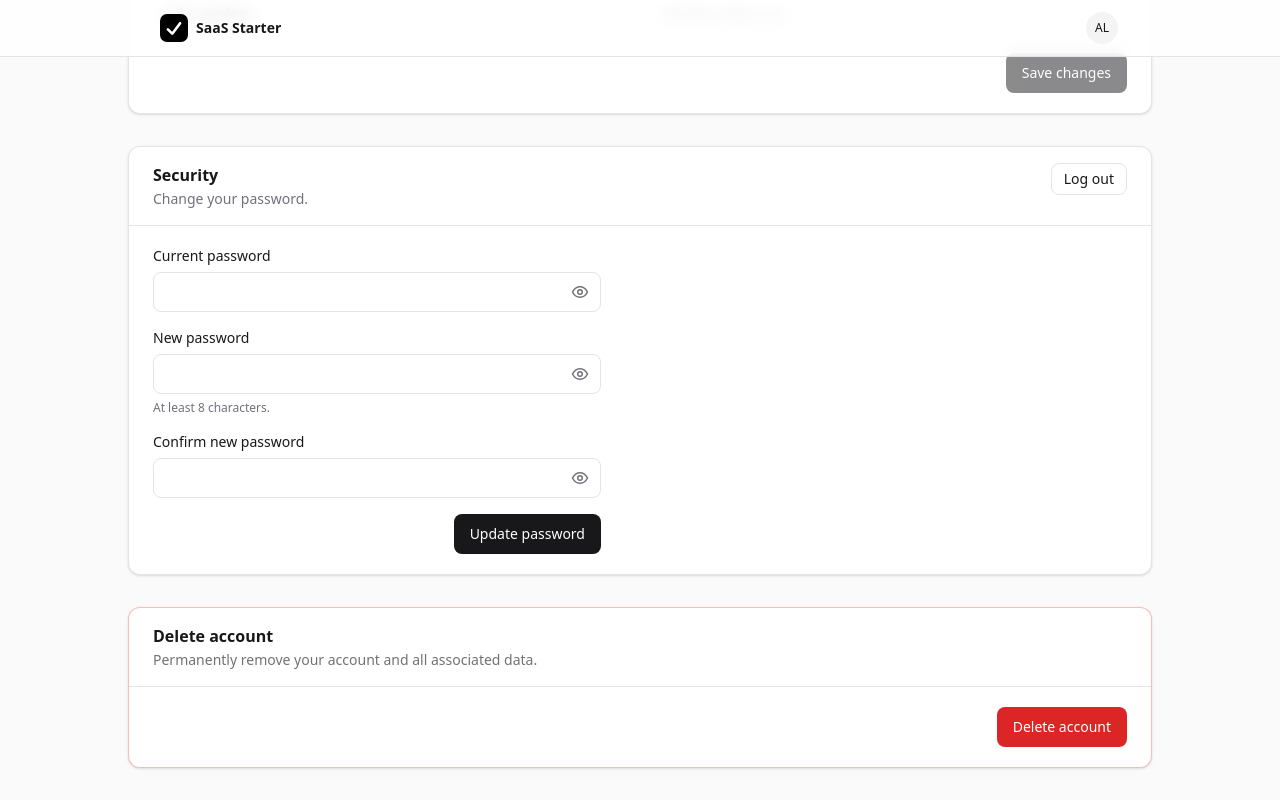
Test: Settings page › requires typed confirmation before deleting the account
The image size is (1280, 800).
(page scrolled)
Click the button "Delete account" at {"x": 1062, "y": 727}, box [997,707,1127,747]
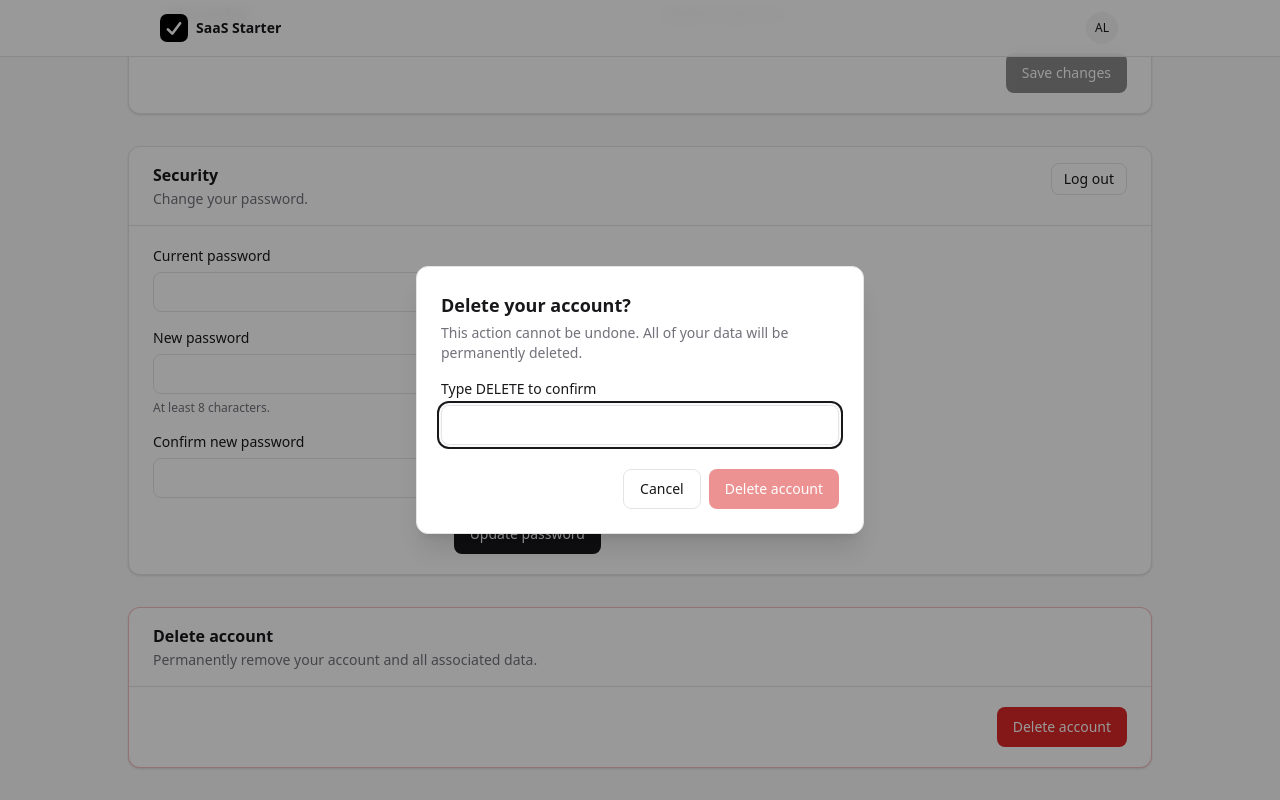
Expected: the button "Delete account" is disabled, [709,469,839,509]
Type "DELETE" into the field labelled "Type DELETE to confirm" at {"x": 640, "y": 425}, box [441,405,839,445]
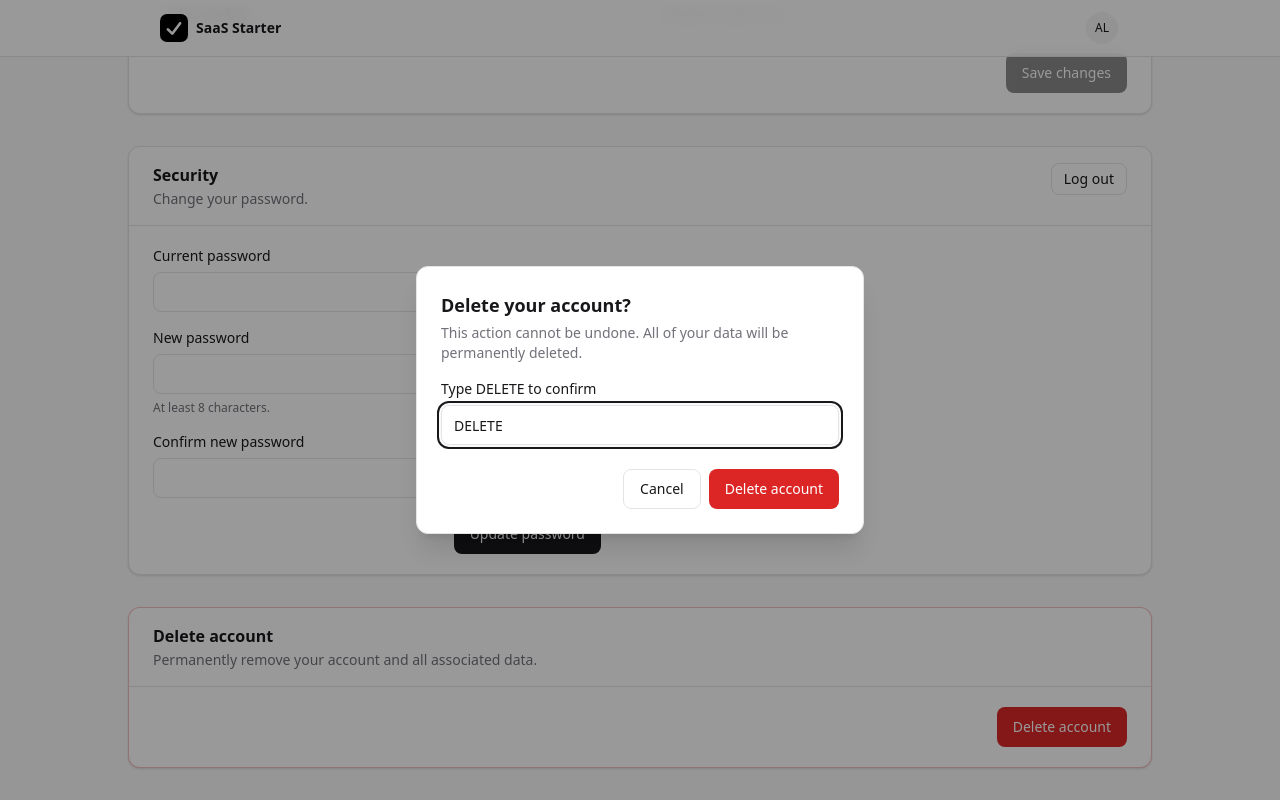
Expected: the button "Delete account" is enabled
Click the button "Delete account" at {"x": 774, "y": 489}, box [709,469,839,509]
(page scrolled)
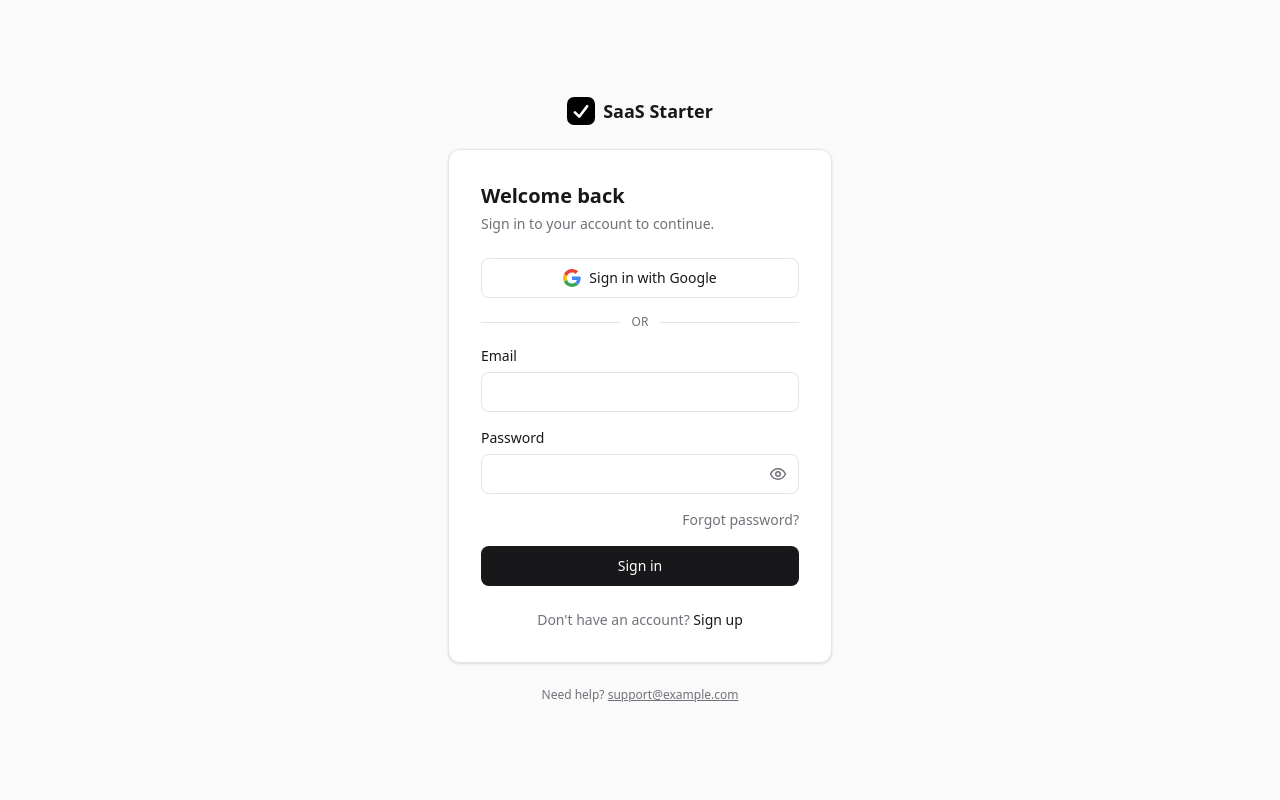
Expected: the heading "Welcome back" is shown, [481,182,625,209]
